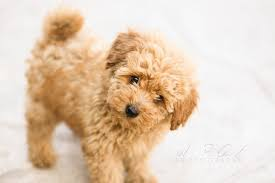Poodle: (17, 11, 190, 181)
